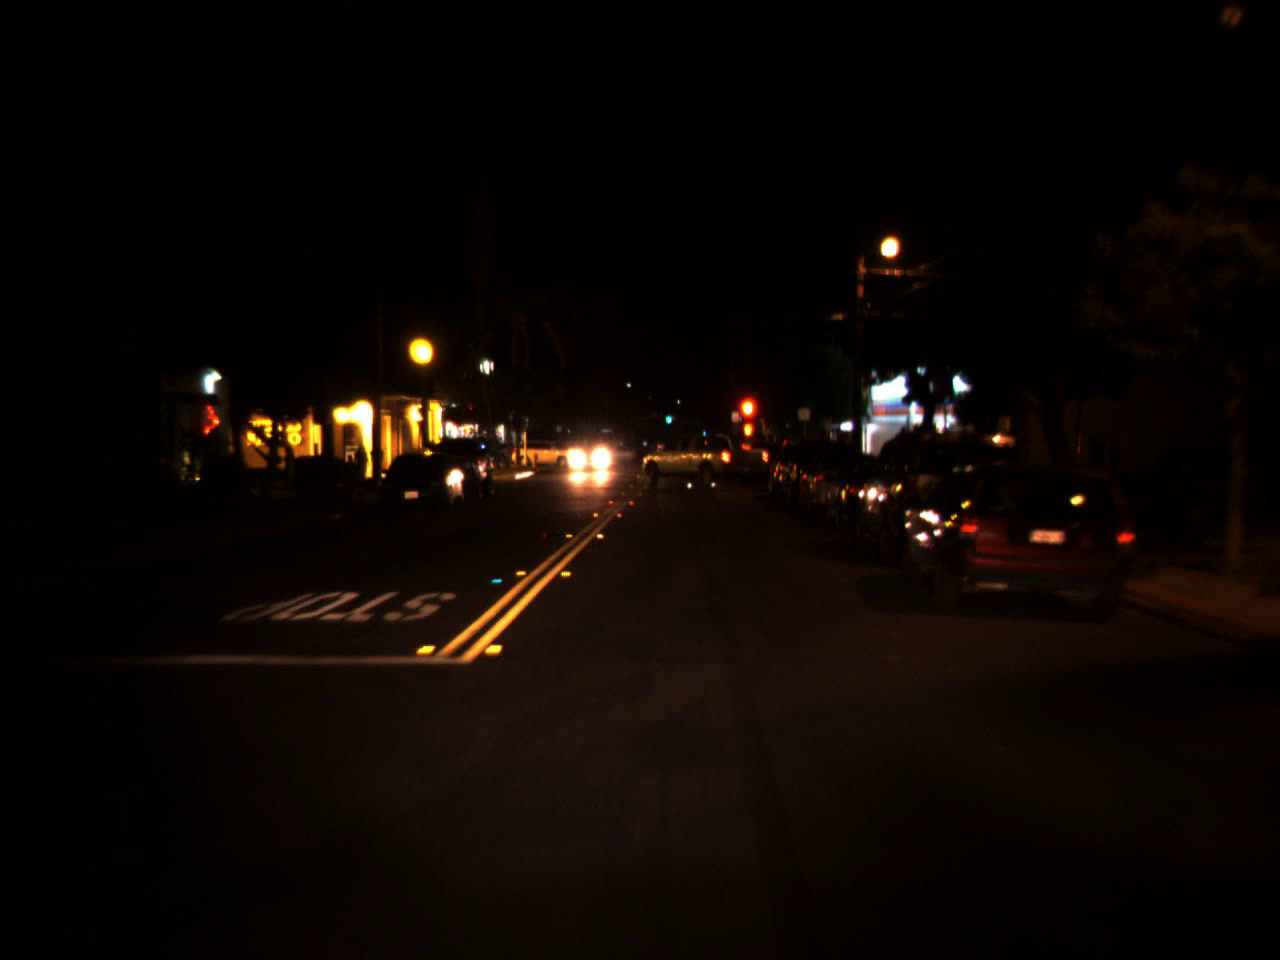go: (663, 407, 672, 425), (701, 425, 708, 437)
stop: (736, 393, 760, 447)
